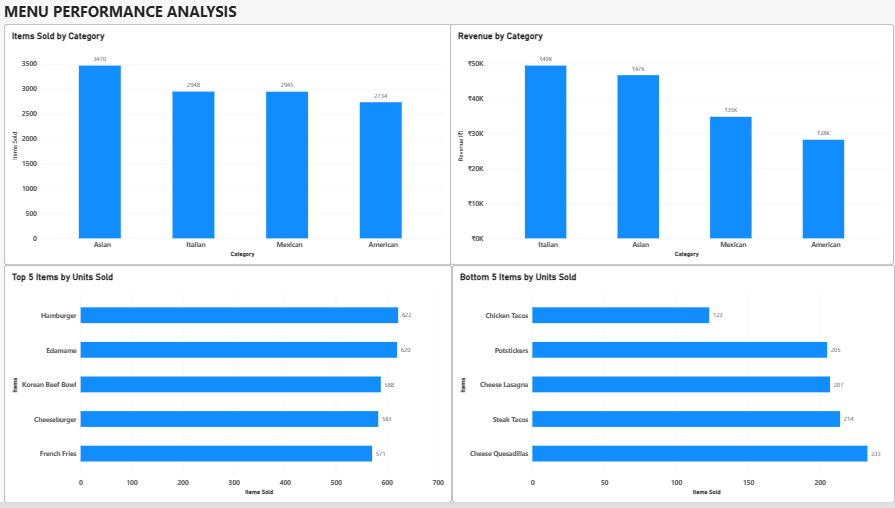

What the dashboard file says about the page in this screenshot:
{"tool":"powerbi","page":{"name":"Menu Performance Analysis","canvas":[1920,1080],"ordinal":2},"visuals":[{"type":"clusteredColumnChart","title":"Items Sold by Category","fields":{"Category":["Raw_Menu.category"],"Y":["Raw_Orders.Total Items Sold"]},"box":[12.8,55.7,958.9,515.9],"z":0},{"type":"clusteredColumnChart","title":"Revenue by Category","fields":{"Category":["Raw_Menu.category"],"Y":["Raw_Orders.Total_Revenue"]},"box":[967.5,55.7,950.4,515.9],"z":1},{"type":"clusteredBarChart","title":"Top 5 Items by Units Sold","fields":{"Category":["Raw_Menu.item_name"],"Y":["Raw_Orders.Total Items Sold"]},"box":[12.8,571.5,958.9,509.4],"z":2},{"type":"clusteredBarChart","title":"Bottom 5 Items by Units Sold","fields":{"Category":["Raw_Menu.item_name"],"Y":["Raw_Orders.Total Items Sold"]},"box":[971.8,571.5,948.2,509.4],"z":3},{"type":"textbox","box":[12.8,6.4,1571.1,299.7],"z":4}]}

Visuals, with their boxes in screenshot pixels (x1, y1, x2, y2), scaled from the page's 1920x1080 canvas onto the 895x508 screenshot:
"Items Sold by Category" clusteredColumnChart: [x1=6, y1=26, x2=453, y2=269]
"Revenue by Category" clusteredColumnChart: [x1=451, y1=26, x2=894, y2=269]
"Top 5 Items by Units Sold" clusteredBarChart: [x1=6, y1=269, x2=453, y2=507]
"Bottom 5 Items by Units Sold" clusteredBarChart: [x1=453, y1=269, x2=894, y2=507]
textbox: [x1=6, y1=3, x2=738, y2=144]
